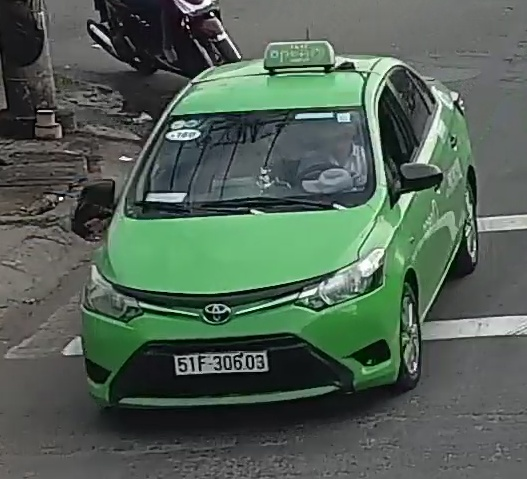vehicle plate: (171, 350, 274, 378)
